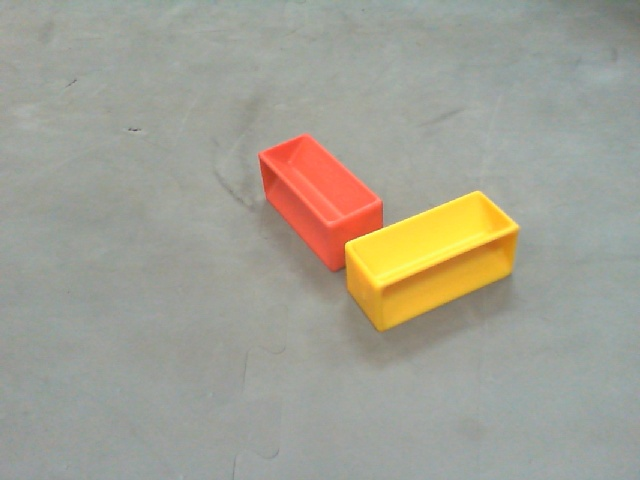RedSample: (257, 134, 386, 274)
YellowSample: (343, 188, 520, 334)
